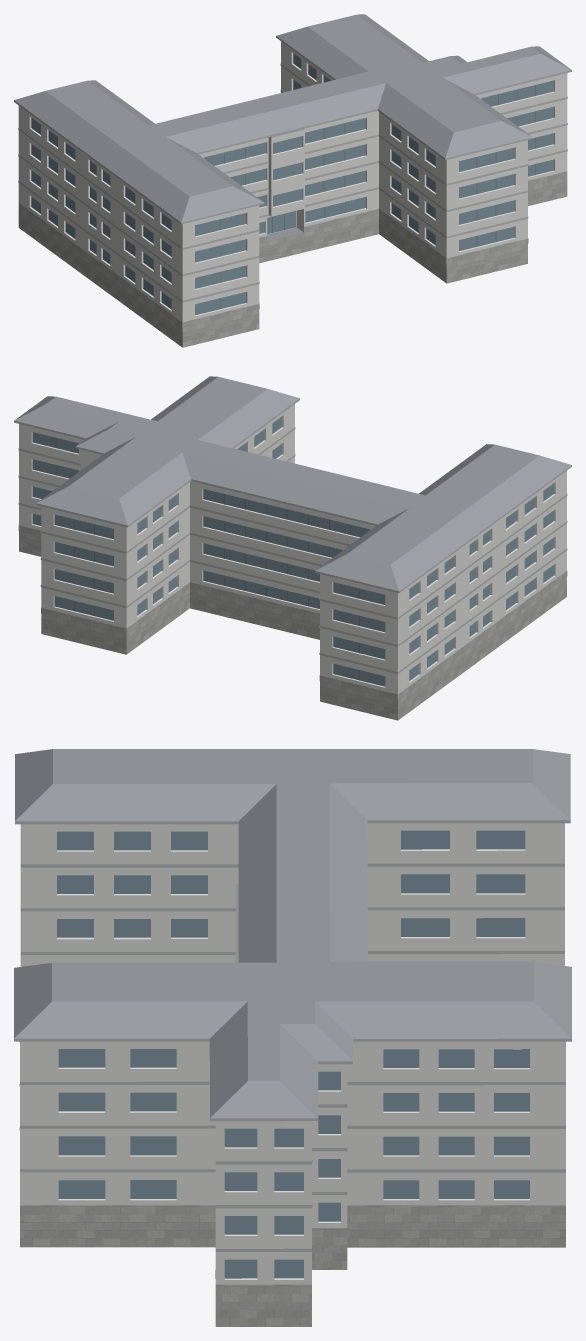
3 renders of one model, top to bottom at view 1: azimuth 30°, elevation 25°; view 2: azimuth 150°, elevation 25°; view 3: azimuth 270°, elevation 25°, orthographic. The views are drawn at different scales.
Parts seen in each view (by area): view 1: nanumGwanW7__wall, nanumGwanW7__roof, nanumGwanW7__glass, nanumGwanW7__base, nanumGwanW7__trim, nanumGwanW7__frame; view 2: nanumGwanW7__wall, nanumGwanW7__roof, nanumGwanW7__glass, nanumGwanW7__base, nanumGwanW7__trim; view 3: nanumGwanW7__roof, nanumGwanW7__wall, nanumGwanW7__glass, nanumGwanW7__base, nanumGwanW7__trim.
Boxes of the visible parts, bbox=[...] form: nanumGwanW7__wall: bbox=[18, 41, 567, 327]; nanumGwanW7__roof: bbox=[14, 14, 571, 241]; nanumGwanW7__glass: bbox=[31, 53, 553, 315]; nanumGwanW7__base: bbox=[18, 171, 567, 347]; nanumGwanW7__trim: bbox=[14, 36, 571, 302]; nanumGwanW7__frame: bbox=[220, 85, 535, 308]; nanumGwanW7__wall: bbox=[19, 404, 566, 699]; nanumGwanW7__roof: bbox=[14, 376, 571, 591]; nanumGwanW7__glass: bbox=[32, 416, 553, 686]; nanumGwanW7__base: bbox=[18, 525, 567, 720]; nanumGwanW7__trim: bbox=[14, 398, 571, 673]; nanumGwanW7__roof: bbox=[14, 749, 571, 1118]; nanumGwanW7__wall: bbox=[20, 823, 565, 1284]; nanumGwanW7__glass: bbox=[57, 830, 529, 1278]; nanumGwanW7__base: bbox=[20, 1205, 565, 1326]; nanumGwanW7__trim: bbox=[14, 820, 571, 1251].
Size of the model in its own units: 58.94 by 17.54 by 38.17.
Materials: 8 (1 with a texture image).
